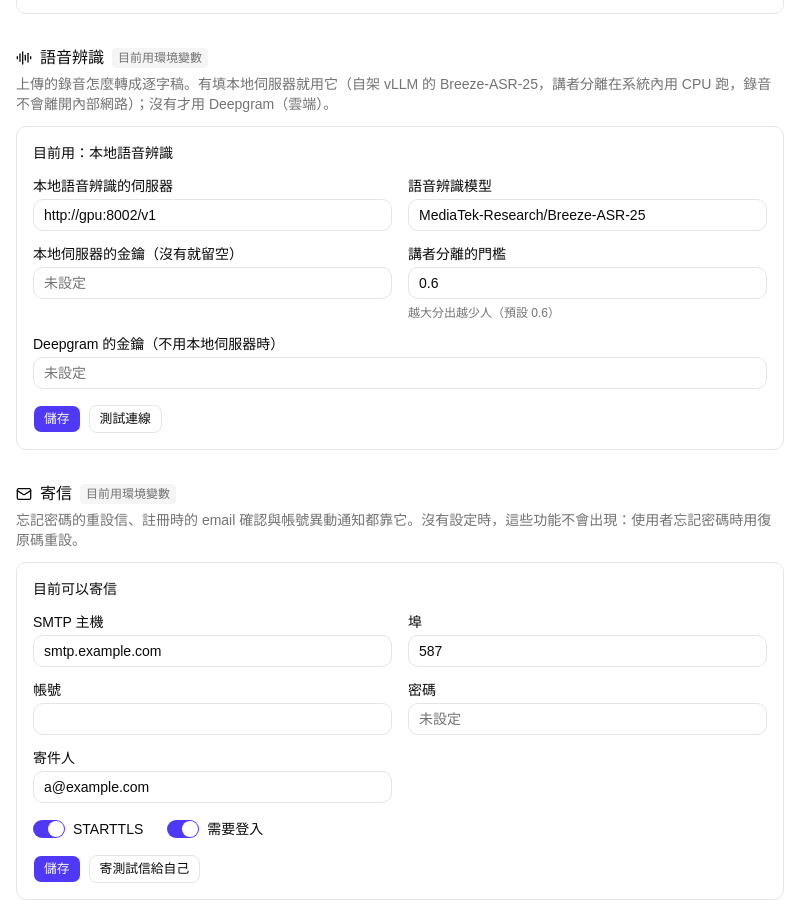
SystemSettingsPage › sends a test mail and says why it failed
(page scrolled)
Click the button "寄測試信給自己".
click(144, 869)  # box [89,855,200,883]
(page scrolled)
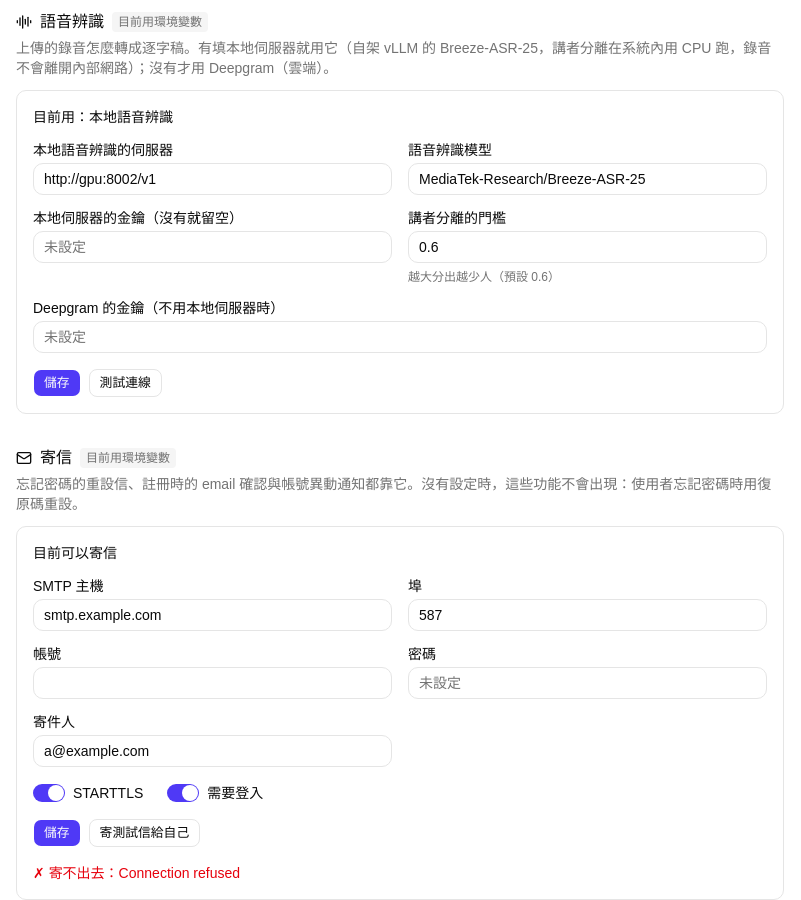
Expected: the list item "✗ 寄不出去：Connection refused" is shown, [33,865,240,881]
